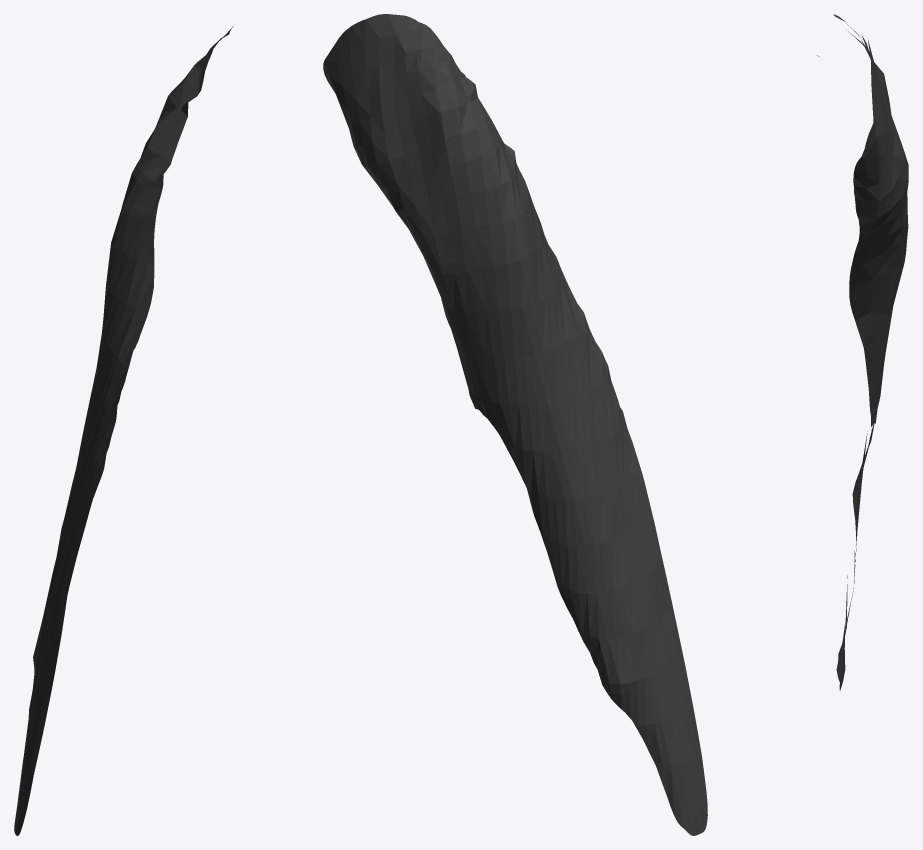
Rendered from Pronator_teres.glb.
3 views of the same model, side by side, from view 1: azimuth 30°, elevation 25°; view 2: azimuth 150°, elevation 25°; view 3: azimuth 270°, elevation 25° (orthographic). The views are drawn at different scales.
Parts seen in each view (by area): view 1: Pronator_teres; view 2: Pronator_teres; view 3: Pronator_teres.
Part boxes in pixels (x1,y1,x2,y2): Pronator_teres: (14,26,233,835); Pronator_teres: (323,14,707,835); Pronator_teres: (817,14,908,690).
Bounding box in the file's own units: 0.0578 × 0.1271 × 0.0201.
Materials: 1 (1 with a texture image).
